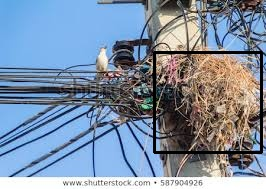bird-nest: (154, 52, 261, 152)
